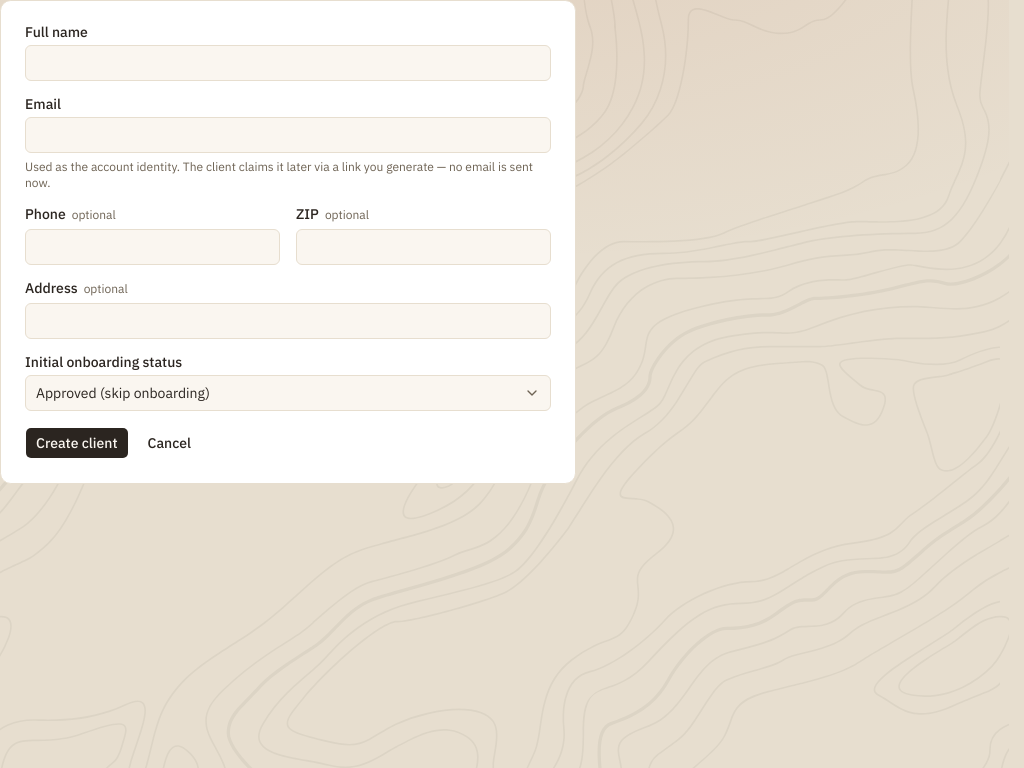
Test case: NewClientForm › blocks an empty submit client-side
Click the button "Create client". click: click(77, 443)
box: [25, 427, 128, 459]
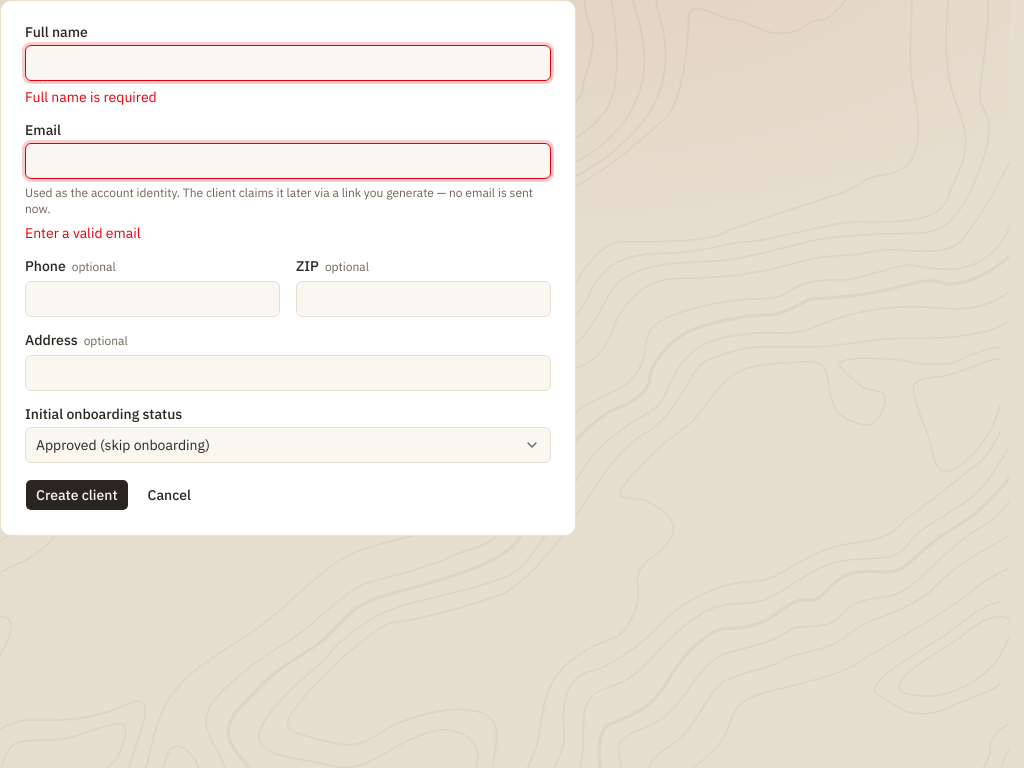
expect the text "Full name is required" is shown: met, box [25, 88, 157, 106]
